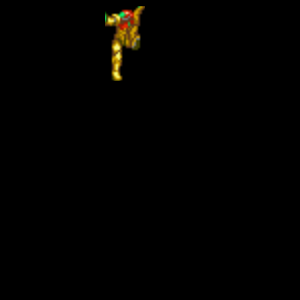Collectible: (105, 6, 145, 81)
